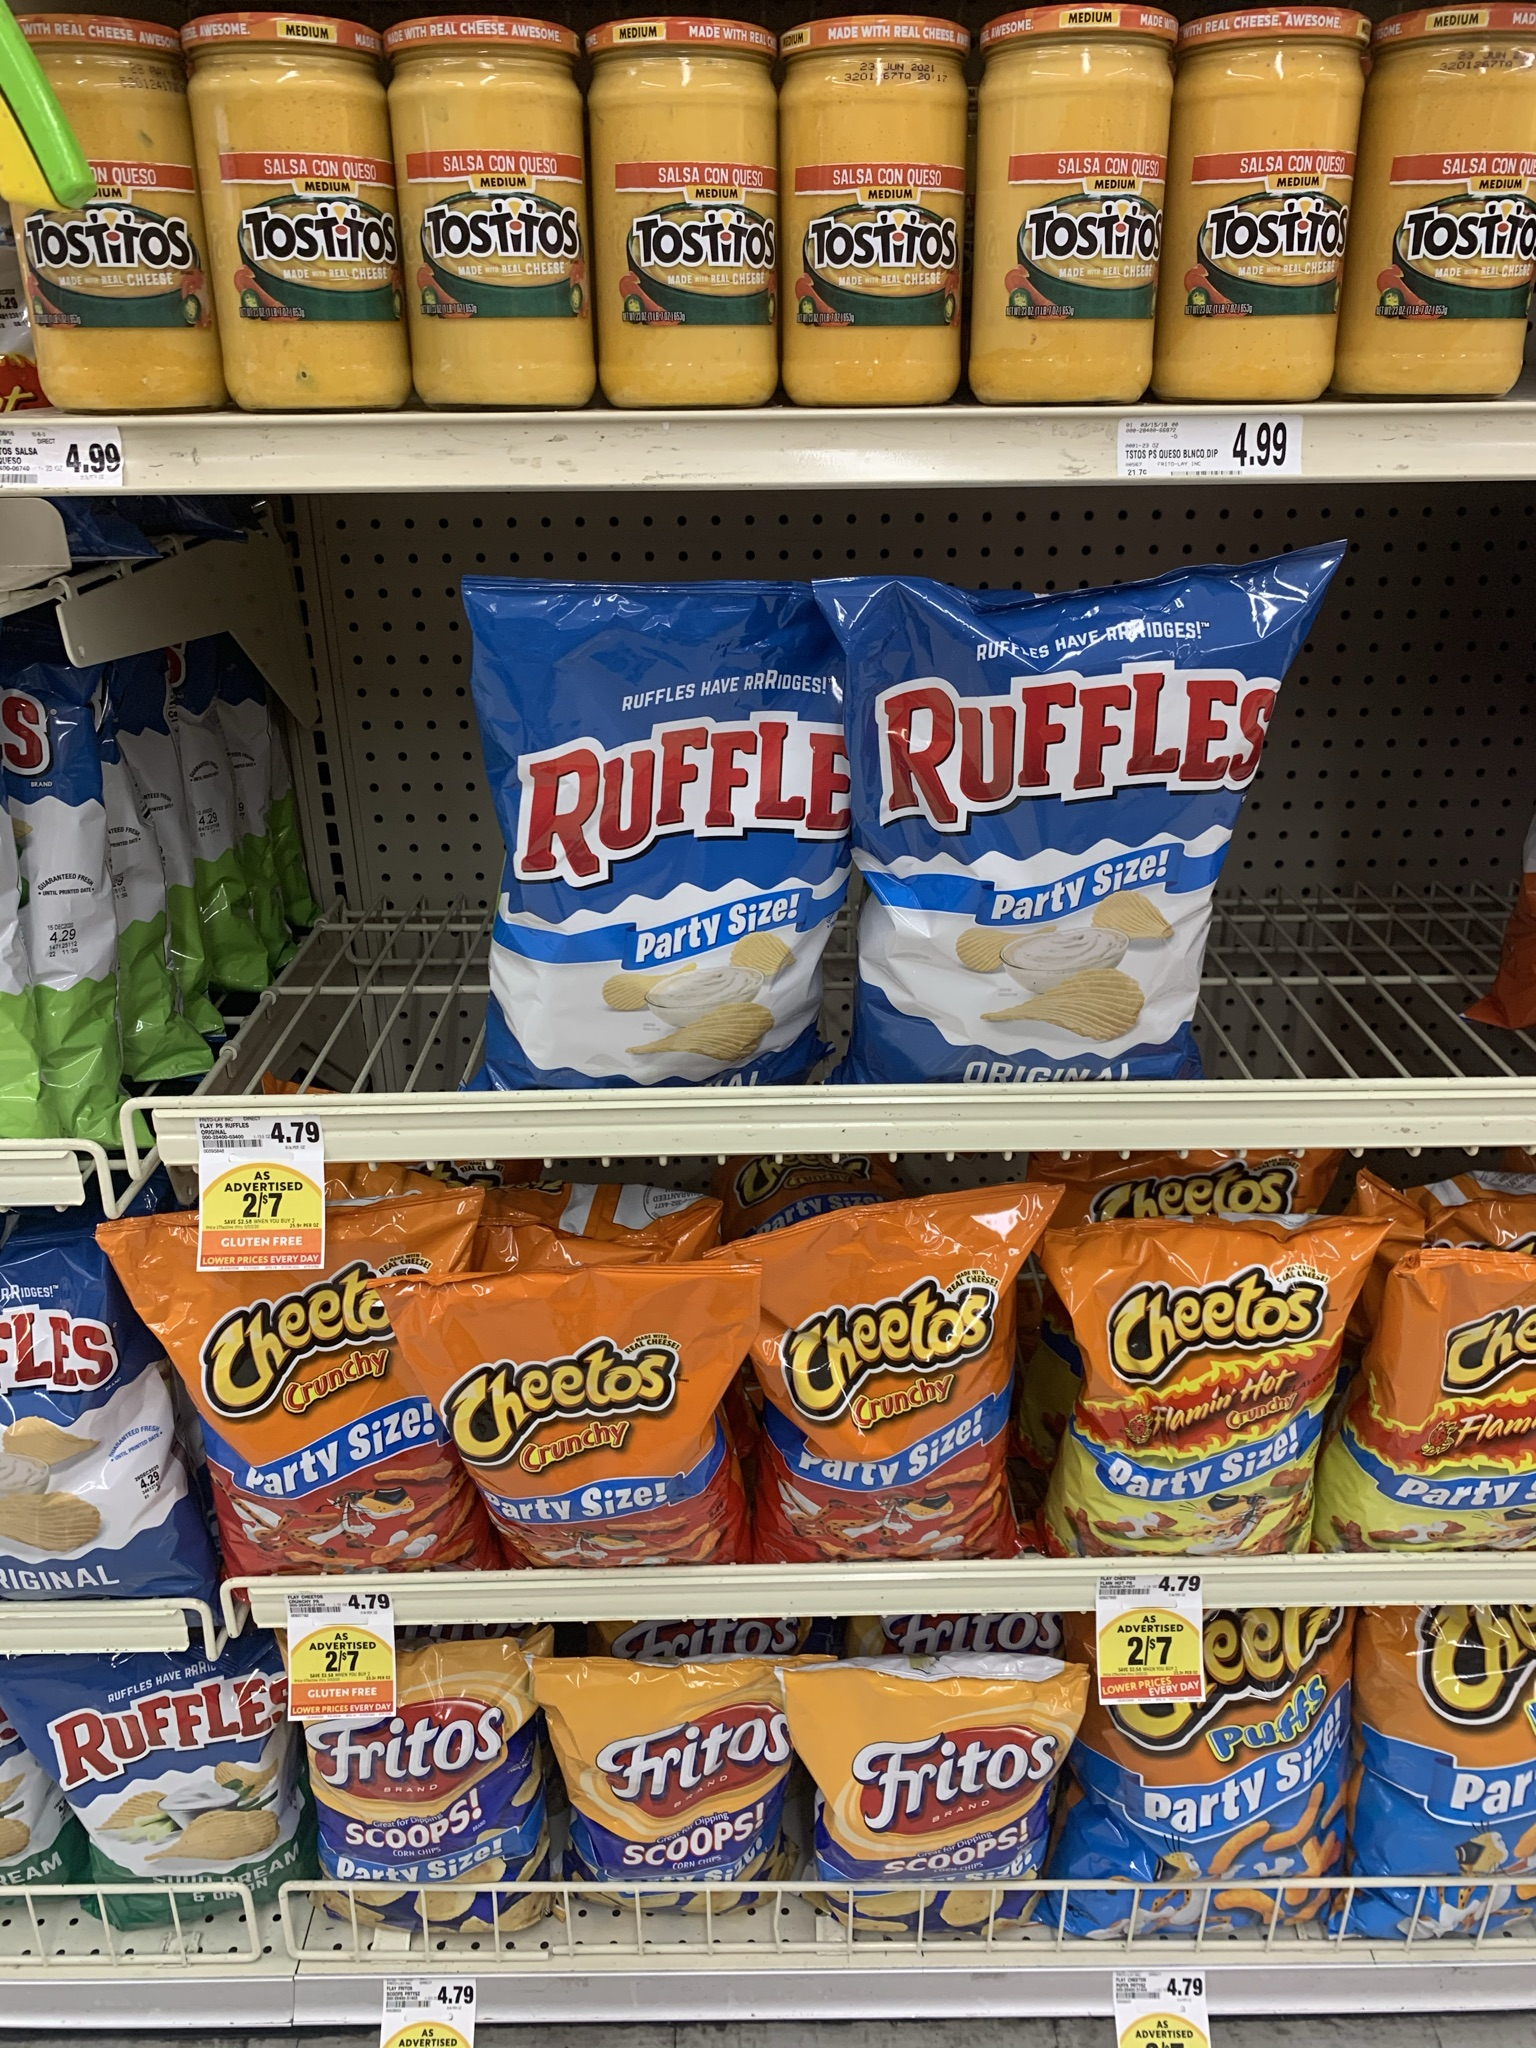cheetos chips: (1071, 1176, 1357, 1550), (115, 1219, 423, 1543), (766, 1238, 1034, 1559), (434, 1284, 744, 1546), (1113, 1642, 1347, 1880), (1379, 1188, 1525, 1542), (1379, 1625, 1517, 1934)
fritos chips: (311, 1669, 558, 1914), (797, 1661, 1054, 1874), (557, 1659, 778, 1895)
ruffles chips: (849, 597, 1207, 1050), (489, 611, 812, 992), (2, 1274, 192, 1584), (15, 1680, 282, 1856)
